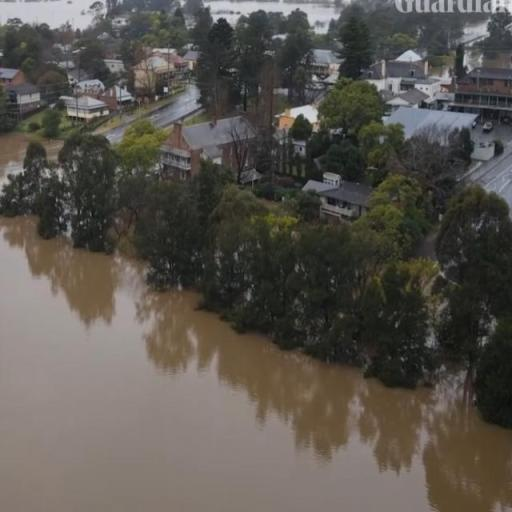flood: (0, 217, 512, 512), (204, 0, 341, 32), (0, 0, 104, 28), (0, 131, 32, 189), (42, 140, 63, 160), (465, 19, 491, 34)
house: (162, 114, 258, 185), (300, 171, 376, 222), (460, 59, 512, 118), (132, 56, 173, 97), (0, 82, 38, 119), (64, 96, 113, 122)
